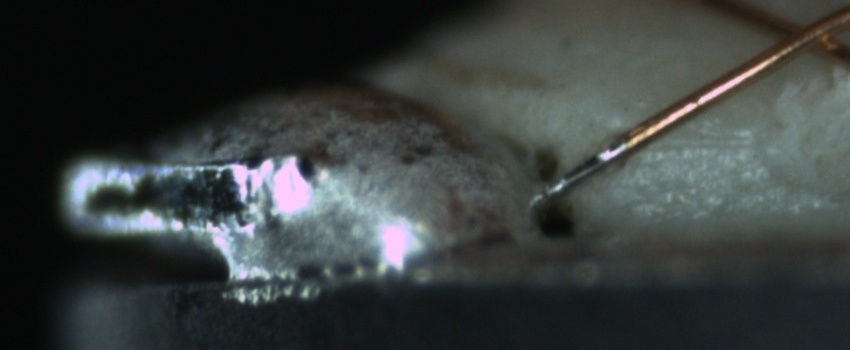CL: (755, 4, 846, 66)
DL: (639, 114, 761, 171)
TS: (542, 140, 628, 202)
